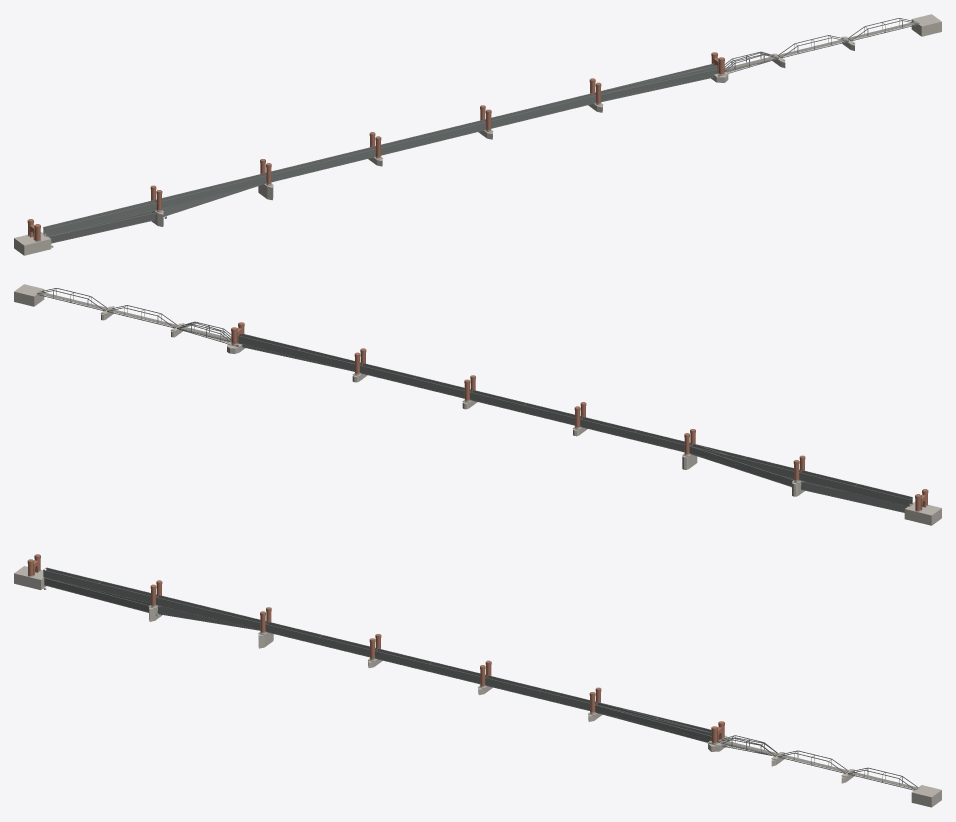
Rendered from bridge_road_lentze_1857_1912.lod2.glb.
The picture shows the model from 3 angles, top to bottom: view 1: azimuth 30°, elevation 25°; view 2: azimuth 150°, elevation 25°; view 3: azimuth 330°, elevation 25°; orthographic projection.
Parts seen in each view (by area): view 1: road_span_01, road_span_03, road_span_04, road_span_05, road_span_02, road_span_06_collapsed, road_span_01_collapsed, road_span_06, road_support_00, road_span_08, road_span_09, road_support_09; view 2: road_span_06, road_span_01, road_span_03, road_span_04, road_span_05, road_span_02_collapsed, road_span_02, road_span_01_collapsed, road_support_00, road_span_08, road_span_09, road_support_09; view 3: road_span_01, road_span_04, road_span_02, road_span_05, road_span_03, road_span_06_collapsed, road_span_01_collapsed, road_span_06.
Part boxes in pixels (<box>): road_span_01: <box>43,200,156,236</box>; road_span_03: <box>265,146,375,182</box>; road_span_04: <box>375,120,485,155</box>; road_span_05: <box>485,93,595,128</box>; road_span_02: <box>155,173,266,208</box>; road_span_06_collapsed: <box>595,68,717,102</box>; road_span_01_collapsed: <box>44,211,155,243</box>; road_span_06: <box>595,63,717,101</box>; road_support_00: <box>14,232,51,255</box>; road_span_08: <box>777,35,848,58</box>; road_span_09: <box>847,18,919,40</box>; road_support_09: <box>911,14,941,36</box>; road_span_06: <box>238,333,360,371</box>; road_span_01: <box>799,470,912,506</box>; road_span_03: <box>580,416,690,452</box>; road_span_04: <box>470,390,580,425</box>; road_span_05: <box>360,363,470,398</box>; road_span_02_collapsed: <box>690,443,793,486</box>; road_span_02: <box>689,443,800,478</box>; road_span_01_collapsed: <box>801,481,906,512</box>; road_support_00: <box>904,502,941,525</box>; road_span_08: <box>107,305,178,328</box>; road_span_09: <box>36,288,108,310</box>; road_support_09: <box>14,284,44,306</box>; road_span_01: <box>43,567,156,603</box>; road_span_04: <box>375,648,486,684</box>; road_span_02: <box>156,595,266,630</box>; road_span_05: <box>485,675,596,710</box>; road_span_03: <box>265,622,375,657</box>; road_span_06_collapsed: <box>595,702,711,742</box>; road_span_01_collapsed: <box>44,578,150,612</box>; road_span_06: <box>595,703,711,740</box>.
Bounding box in the file's own units: 1089 × 37.8 × 30.
